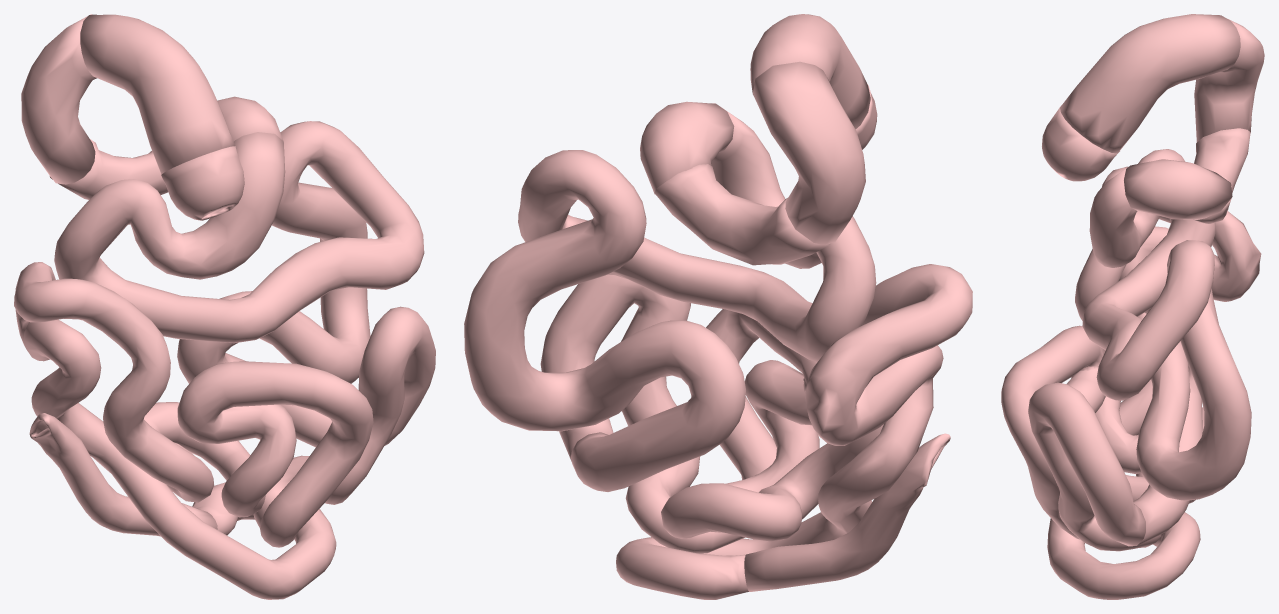
Rendered from vh_f_small_intestine-40.fbx.
The picture shows the model from 3 angles, left to right: view 1: azimuth 30°, elevation 25°; view 2: azimuth 150°, elevation 25°; view 3: azimuth 270°, elevation 25°; orthographic projection. The views are drawn at different scales.
Parts seen in each view (by area): view 1: VH_F_ileum, VH_F_jejenum, VH_F_duodenum_superior, VH_F_duodenum_descending, VH_F_ileum_terminal, VH_F_duodenal_ampulla, VH_F_duodenum_horizontal, VH_F_duodenum_ascending; view 2: VH_F_ileum, VH_F_jejenum, VH_F_duodenum_descending, VH_F_ileum_terminal, VH_F_duodenum_horizontal, VH_F_duodenum_superior, VH_F_duodenum_ascending; view 3: VH_F_jejenum, VH_F_ileum, VH_F_duodenum_superior, VH_F_duodenum_ascending, VH_F_duodenum_descending, VH_F_duodenal_ampulla, VH_F_duodenum_horizontal.
Boxes of the visible parts, x1,y1,x2,y2 form: VH_F_ileum: [14, 262, 435, 599]; VH_F_jejenum: [54, 121, 424, 447]; VH_F_duodenum_superior: [80, 14, 235, 174]; VH_F_duodenum_descending: [21, 14, 96, 184]; VH_F_ileum_terminal: [29, 413, 217, 536]; VH_F_duodenal_ampulla: [161, 146, 244, 220]; VH_F_duodenum_horizontal: [49, 139, 168, 199]; VH_F_duodenum_ascending: [217, 96, 283, 141]; VH_F_ileum: [540, 264, 972, 599]; VH_F_jejenum: [464, 103, 876, 491]; VH_F_duodenum_descending: [752, 61, 865, 245]; VH_F_ileum_terminal: [744, 433, 950, 591]; VH_F_duodenum_horizontal: [654, 164, 830, 265]; VH_F_duodenum_superior: [750, 14, 870, 129]; VH_F_duodenum_ascending: [640, 101, 734, 194]; VH_F_jejenum: [1082, 149, 1251, 545]; VH_F_ileum: [1001, 166, 1261, 599]; VH_F_duodenum_superior: [1060, 14, 1240, 153]; VH_F_duodenum_ascending: [1124, 159, 1232, 219]; VH_F_duodenum_descending: [1194, 15, 1264, 142]; VH_F_duodenal_ampulla: [1042, 105, 1119, 181]; VH_F_duodenum_horizontal: [1193, 128, 1250, 223].
Bounding box in the file's own units: 16.15 × 21.72 × 10.01.
